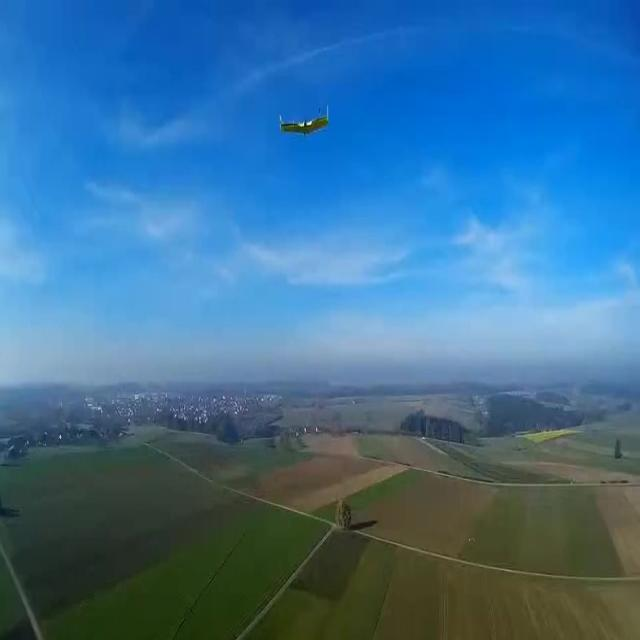iha: (278, 39, 329, 75)
